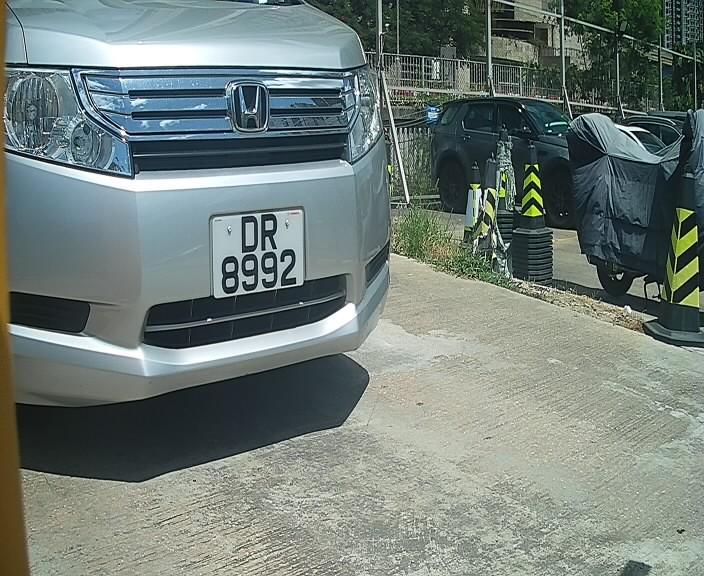License Plate: (205, 201, 305, 304)
